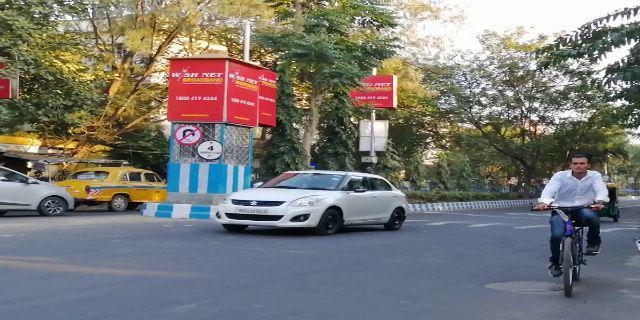Car: (213, 166, 408, 237), (58, 168, 167, 211), (1, 162, 78, 218)
Cycle: (534, 147, 608, 303)
